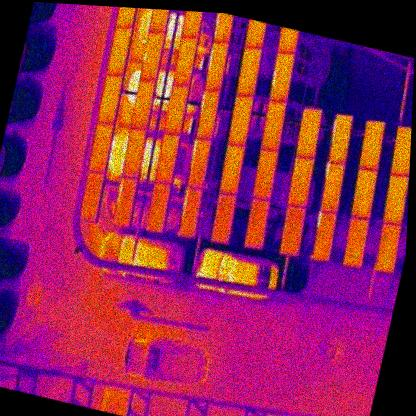Diode: (316, 160, 347, 214), (309, 209, 339, 263), (267, 51, 296, 105), (326, 113, 354, 165), (111, 176, 139, 228), (193, 88, 220, 141), (185, 137, 212, 189), (176, 187, 203, 239), (202, 41, 229, 93)
Hotspot: (138, 29, 165, 84)
Normal: (348, 166, 380, 222), (339, 215, 370, 270), (277, 204, 308, 258), (258, 98, 288, 153), (153, 131, 182, 186), (86, 121, 115, 176), (250, 149, 280, 202), (286, 154, 315, 208), (294, 107, 324, 159), (381, 173, 409, 228), (78, 169, 106, 224), (235, 43, 262, 100), (243, 197, 272, 250), (209, 192, 238, 245), (120, 127, 148, 181), (226, 93, 253, 148), (129, 77, 156, 132), (162, 83, 189, 137), (218, 142, 245, 196), (171, 34, 198, 88), (105, 24, 132, 78), (357, 120, 385, 172), (373, 221, 401, 273), (144, 182, 172, 233), (97, 74, 122, 127), (388, 124, 412, 178)
